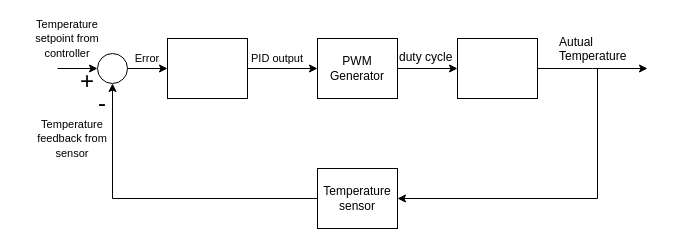
The diagram is 673 pixels wide and 246 high, and some of its shapes have lost their labels. Here are the shapes that lost their labels. From the top down, the centre of each, then its label:
At point (207, 68): "PID controller".
At point (497, 68): "Themoelectric cooler peltier and DC Fan".
